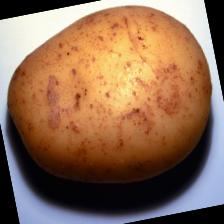potato: (0, 0, 224, 204)
